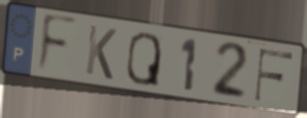1: (179, 37, 198, 95)
2: (212, 40, 251, 100)
F: (34, 11, 79, 77), (252, 47, 296, 105)
K: (83, 22, 119, 82)
Q: (124, 30, 163, 90)
